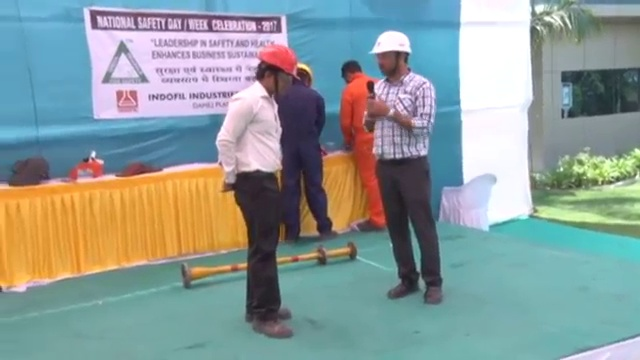helmet: (257, 44, 300, 79), (365, 31, 416, 56), (294, 60, 315, 82)
helmet_off: (336, 56, 364, 88)
helmet_on: (249, 42, 301, 104), (365, 31, 417, 84), (289, 60, 315, 90)
person: (216, 42, 300, 341), (364, 30, 444, 305), (279, 61, 341, 240), (336, 53, 387, 231)
